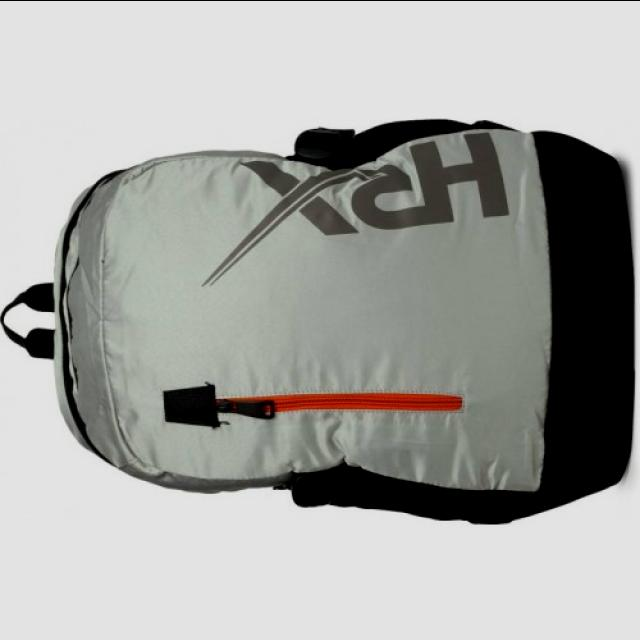backpack: (1, 119, 635, 526)
